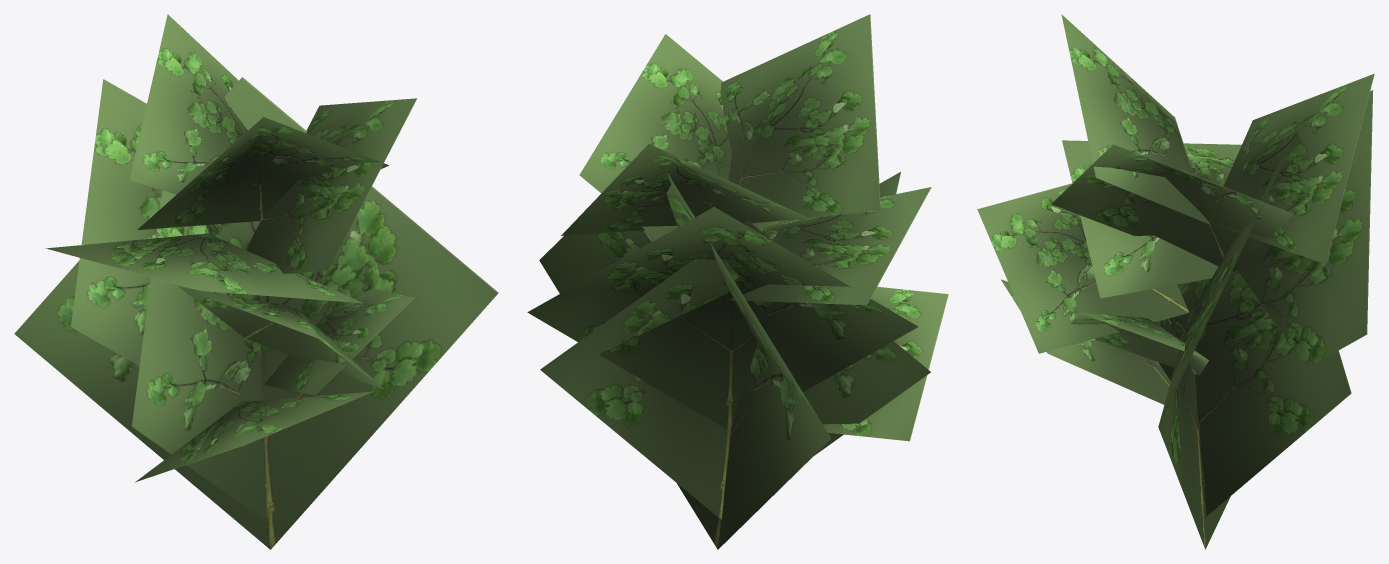
The model's file is bush05_lod01.FBX.
3 renders of one model, left to right at view 1: azimuth 30°, elevation 25°; view 2: azimuth 150°, elevation 25°; view 3: azimuth 270°, elevation 25°, orthographic.
Parts seen in each view (by area): view 1: bush05_lod01; view 2: bush05_lod01; view 3: bush05_lod01.
Part boxes in pixels (box(x1,y1,x2,y2)): bush05_lod01: box(14, 14, 498, 549); bush05_lod01: box(527, 14, 948, 549); bush05_lod01: box(977, 14, 1374, 549).
Bounding box in the file's own units: 107 × 128 × 92.88.
1 material, 1 textured.
